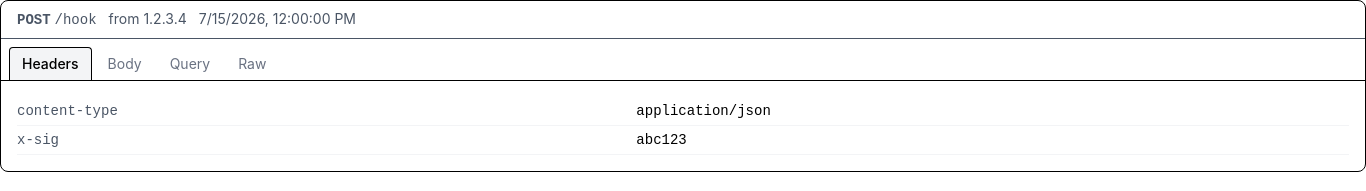
RequestDetail › pretty-prints JSON body on body tab
The image size is (1366, 191).
What coordinates should you click on to do the following:
click the button "Body"
I would click on:
 (125, 64)
Its box is [96,47,154,80].
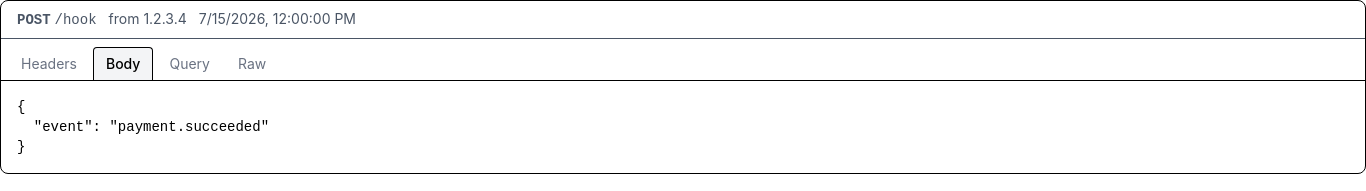
Check: the text "{ \"event\": \"payment.succeeded\" }" is shown, box [17,99,269,155]
